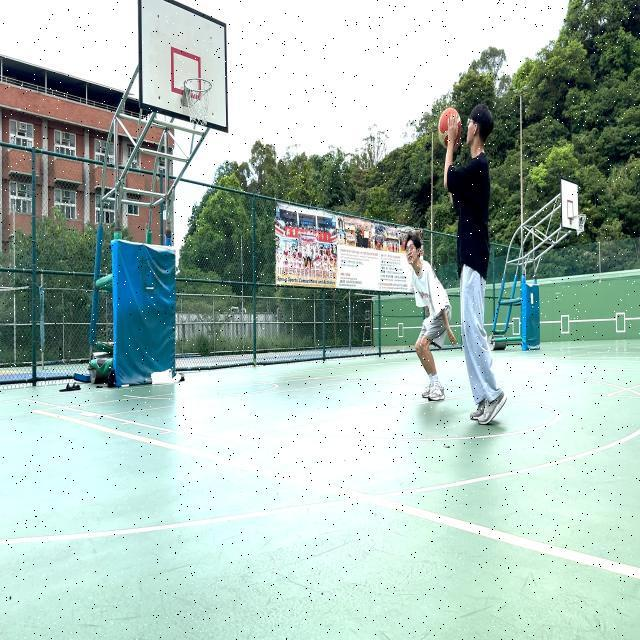ball: (437, 106, 462, 152)
